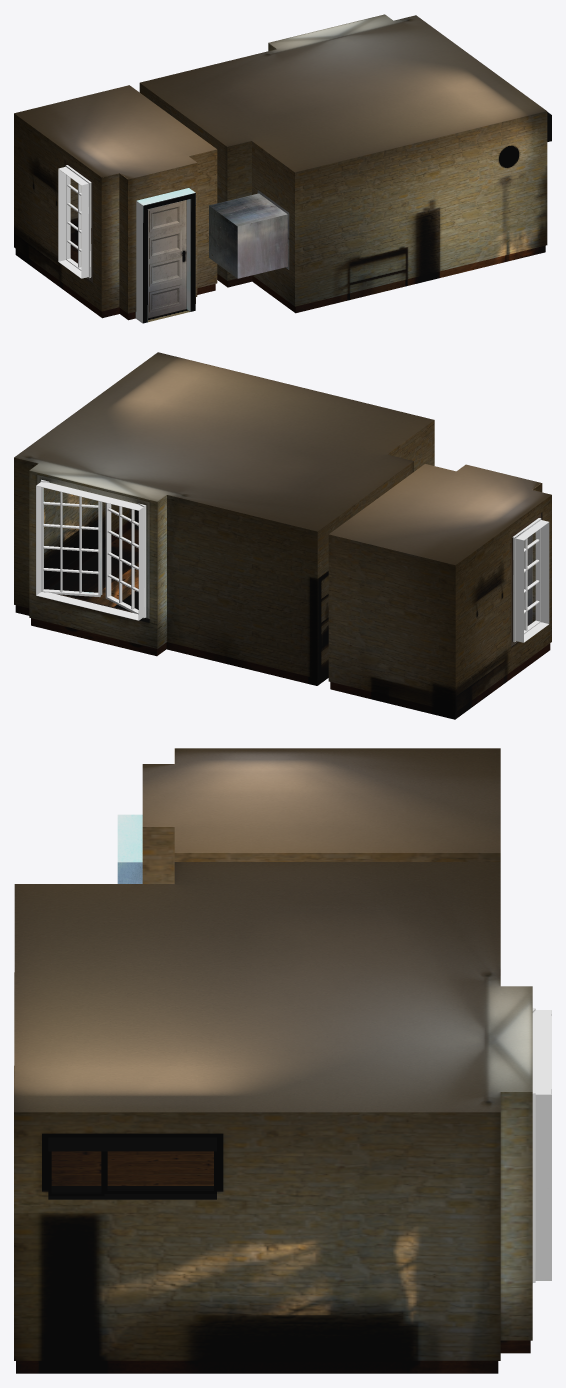
Rendered from Room.obj.
3 views of the same model, one above another, from view 1: azimuth 30°, elevation 25°; view 2: azimuth 150°, elevation 25°; view 3: azimuth 270°, elevation 25° (orthographic). The views are drawn at different scales.
Parts seen in each view (by area): view 1: Room, Door1, Safe, Window1; view 2: Room, Window2, Window1, Door1; view 3: Room, Window3, Window2, Door1.
Part boxes in pixels (box(x1,y1,x2,y2)): Room: box(14, 14, 547, 322); Door1: box(135, 188, 195, 323); Safe: box(209, 190, 289, 278); Window1: box(58, 160, 92, 282); Room: box(14, 352, 551, 719); Window2: box(36, 475, 149, 622); Window1: box(511, 512, 549, 647); Door1: box(527, 534, 532, 625); Room: box(14, 748, 532, 1373); Window3: box(42, 1133, 223, 1199); Window2: box(532, 1008, 551, 1282); Door1: box(117, 814, 142, 883).
Size of the model in its own units: 8.5 by 2.71 by 5.02.
